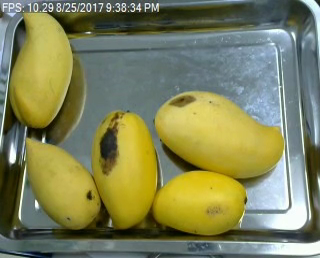Mango: (152, 86, 288, 180), (0, 2, 77, 133), (88, 103, 159, 231), (18, 135, 99, 234), (143, 166, 251, 238)
